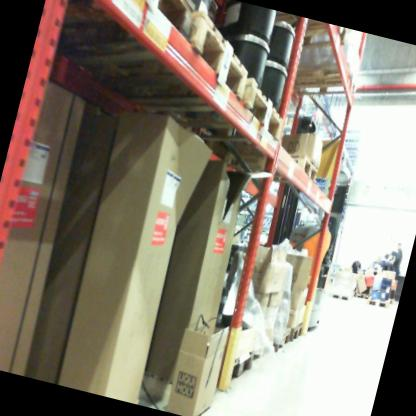forklift: (241, 91, 385, 339)
pallet: (56, 0, 265, 137), (87, 36, 296, 169), (44, 0, 198, 88), (252, 30, 368, 116), (229, 1, 365, 57), (253, 145, 321, 195), (259, 322, 293, 358), (223, 347, 256, 384), (243, 337, 273, 368), (284, 319, 307, 346), (367, 293, 393, 311), (330, 285, 352, 304), (349, 287, 373, 302)
